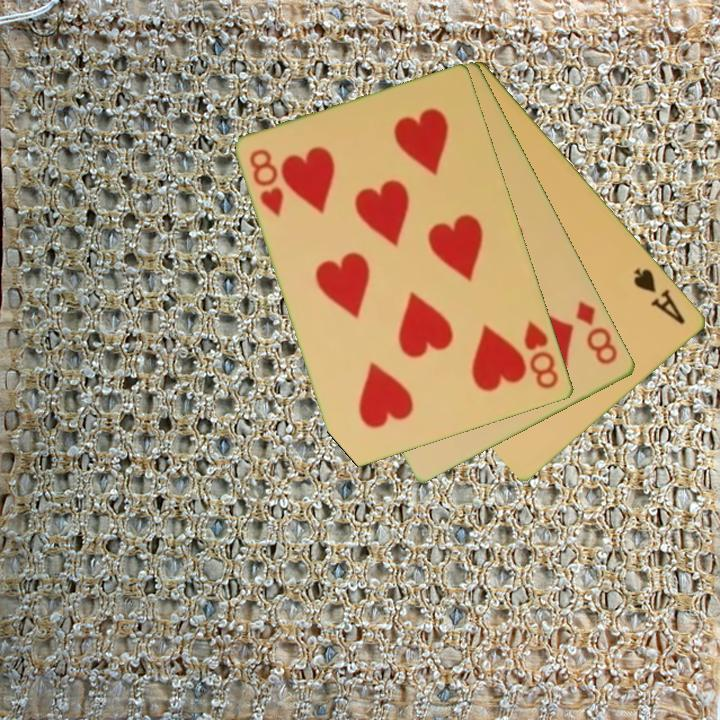8d: (573, 297, 621, 368)
8h: (521, 317, 562, 393), (246, 146, 287, 221)
As: (630, 264, 689, 328)
